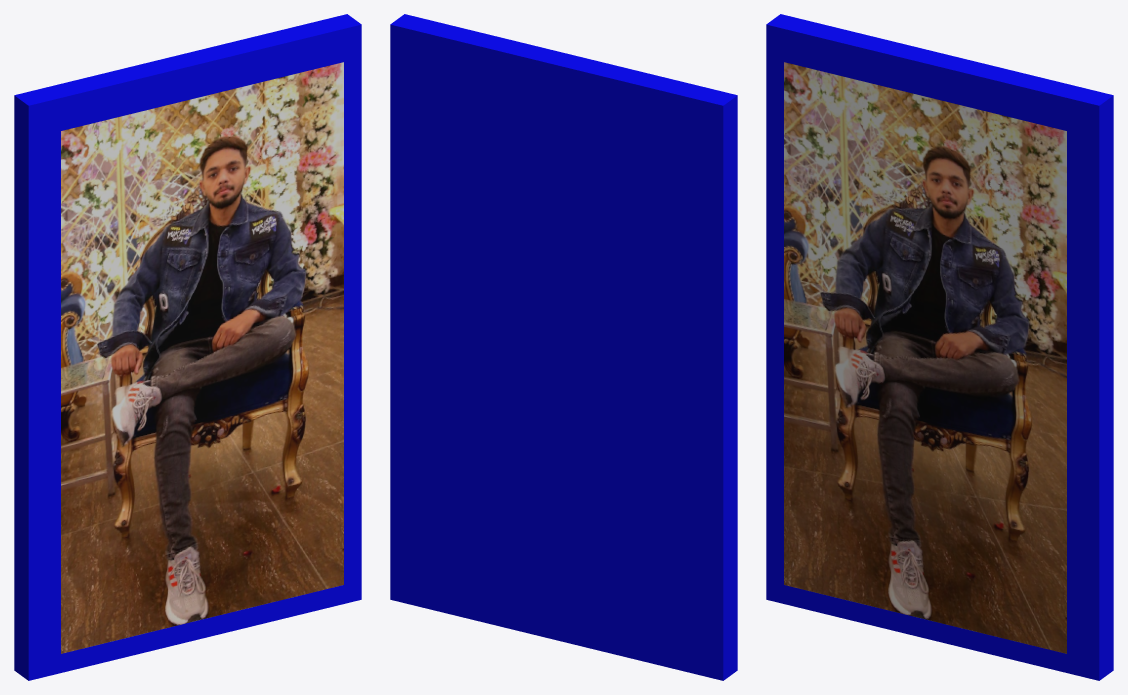
3 renders of one model, left to right at view 1: azimuth 30°, elevation 25°; view 2: azimuth 150°, elevation 25°; view 3: azimuth 330°, elevation 25°, orthographic.
Parts seen in each view (by area): view 1: PhotoPlane, PhotoBorder; view 2: PhotoBorder; view 3: PhotoPlane, PhotoBorder.
Part boxes in pixels (bbox=[...]): PhotoPlane: bbox=[61, 62, 343, 653]; PhotoBorder: bbox=[14, 14, 361, 680]; PhotoBorder: bbox=[390, 14, 737, 680]; PhotoPlane: bbox=[784, 62, 1066, 653]; PhotoBorder: bbox=[766, 14, 1113, 680].
Bounding box in the file's own units: 6.67 × 11 × 0.75.
Materials: 2 (1 with a texture image).
